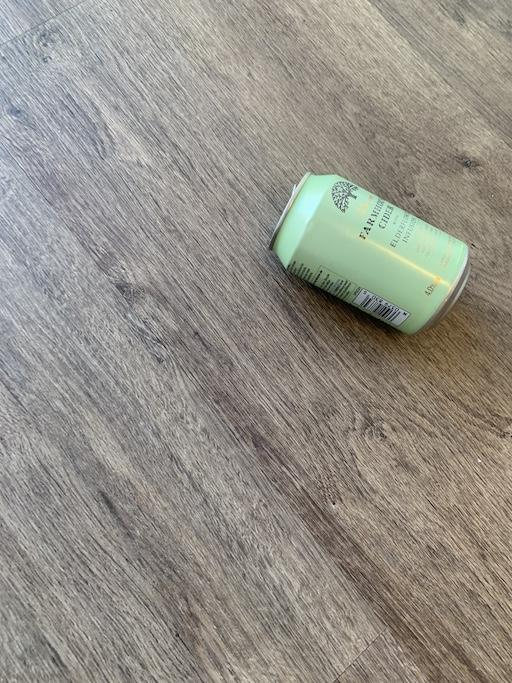Aluminum can: (258, 156, 480, 340)
